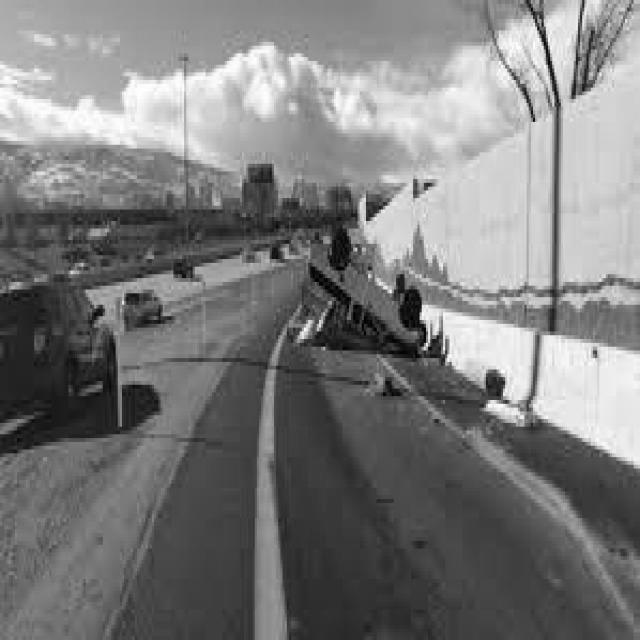accident: (298, 217, 428, 362)
vehicle: (0, 266, 123, 411), (118, 282, 166, 330), (168, 250, 198, 285)
